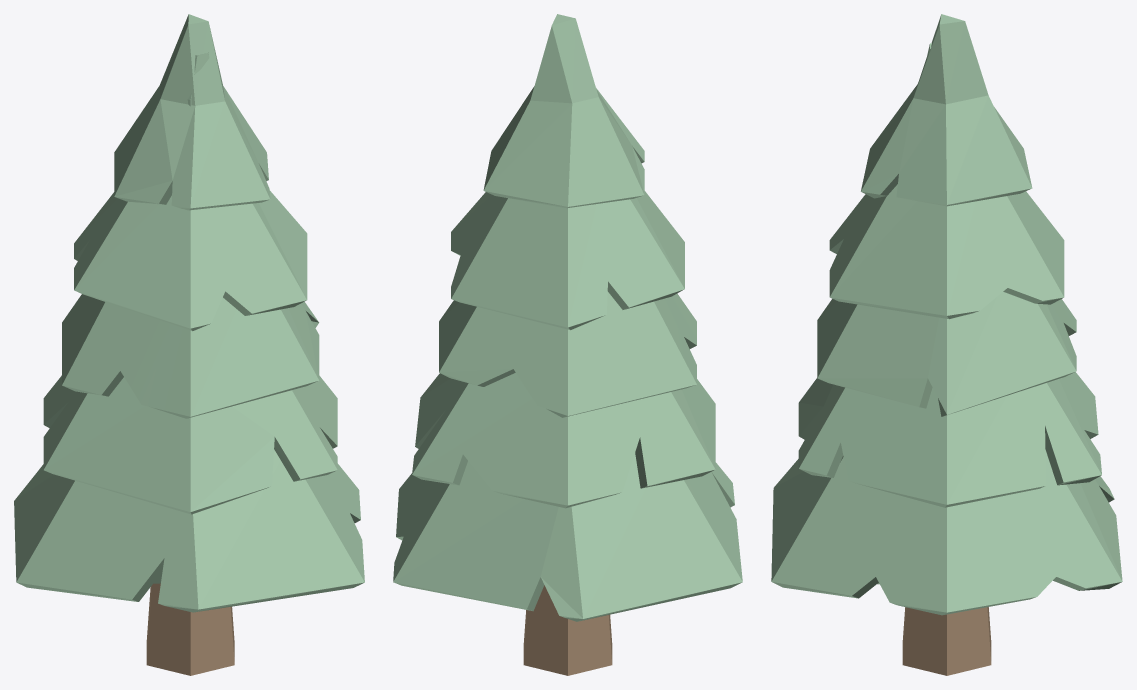
Rendered from PineNormal.fbx.
3 views of the same model, side by side, from view 1: azimuth 30°, elevation 25°; view 2: azimuth 150°, elevation 25°; view 3: azimuth 270°, elevation 25° (orthographic).
Parts seen in each view (by area): view 1: straight; view 2: straight; view 3: straight.
Part boxes in pixels (left/top/right/bottom): straight: left=14, top=14, right=364, bottom=675; straight: left=393, top=14, right=742, bottom=675; straight: left=771, top=14, right=1122, bottom=675.
Bounding box in the file's own units: 0.9833 × 1.74 × 0.866.
